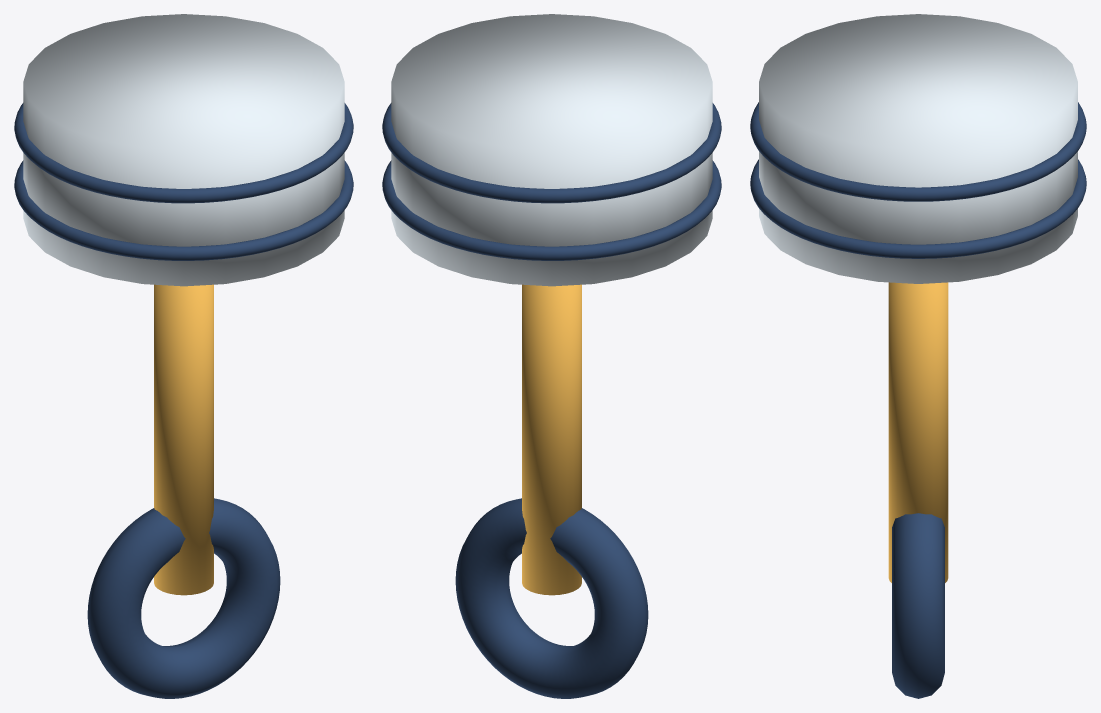
File: piston-quality.glb
3 renders of one model, left to right at view 1: azimuth 30°, elevation 25°; view 2: azimuth 150°, elevation 25°; view 3: azimuth 270°, elevation 25°, orthographic.
Visible parts, largest first — view 1: Piston crown; view 2: Piston crown; view 3: Piston crown.
Boxes of the visible parts, x1,y1,x2,y2 form: Piston crown: (14, 14, 353, 698); Piston crown: (382, 14, 721, 698); Piston crown: (750, 14, 1086, 698).
Size of the model in its own units: 1.01 by 2.02 by 1.01.
